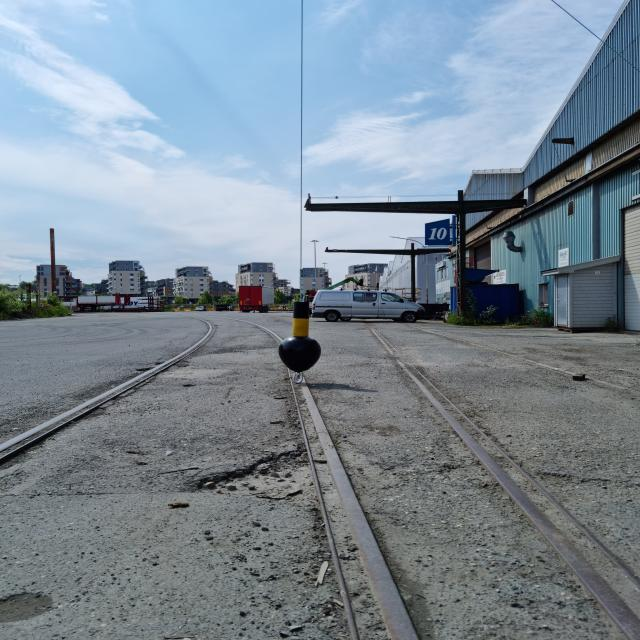east: (278, 302, 322, 372)
